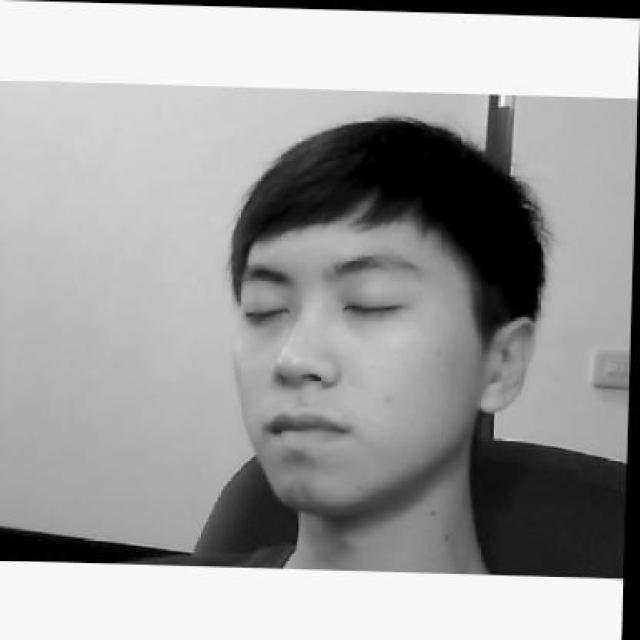inattentif: (230, 111, 544, 514)
